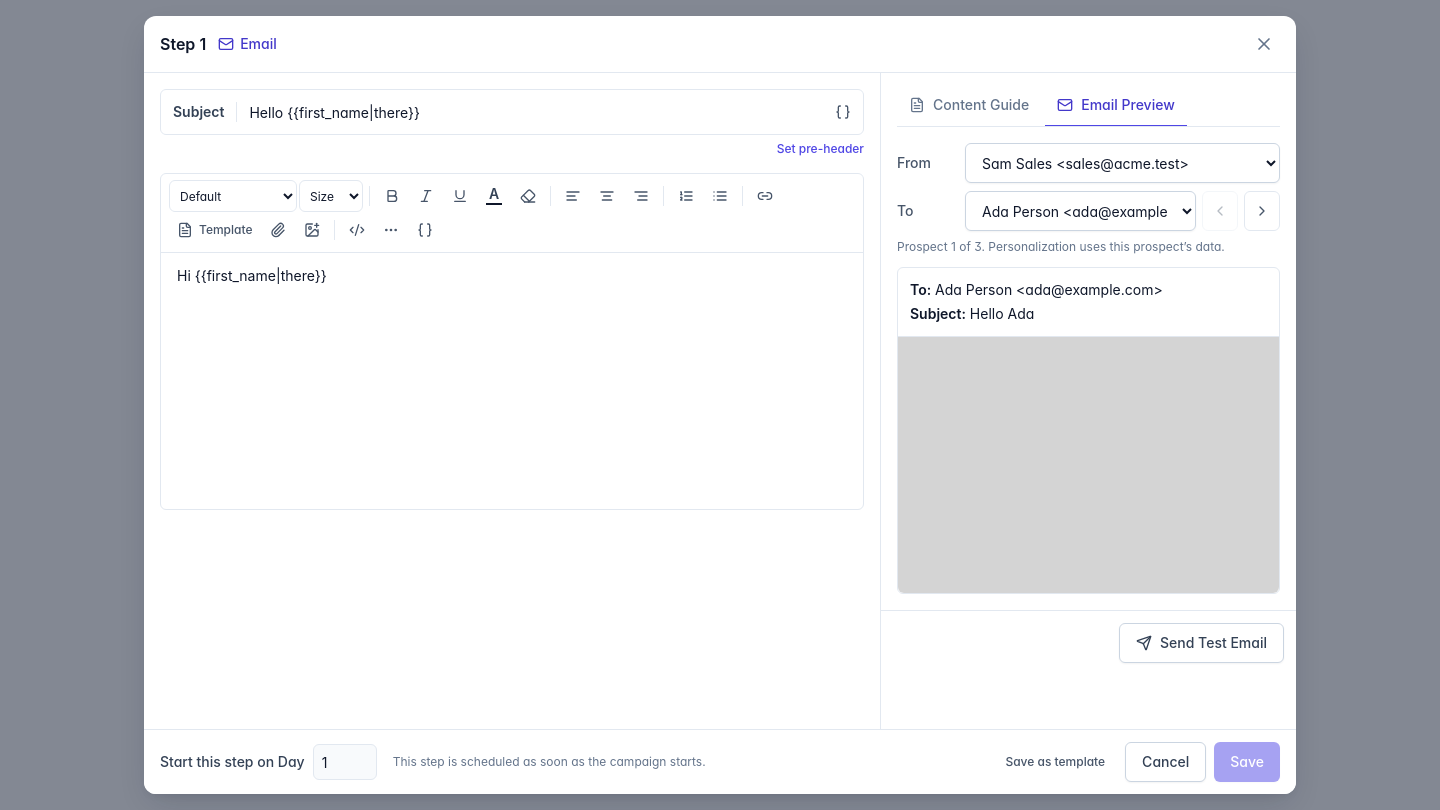
preview prospects › loads the next page of prospects as navigation nears the end
expect the text "Hello Ada" is shown: met, box [970,305,1034,322]
Click the button named "next prospect".
click(1262, 211)  # box [1244,191,1280,231]
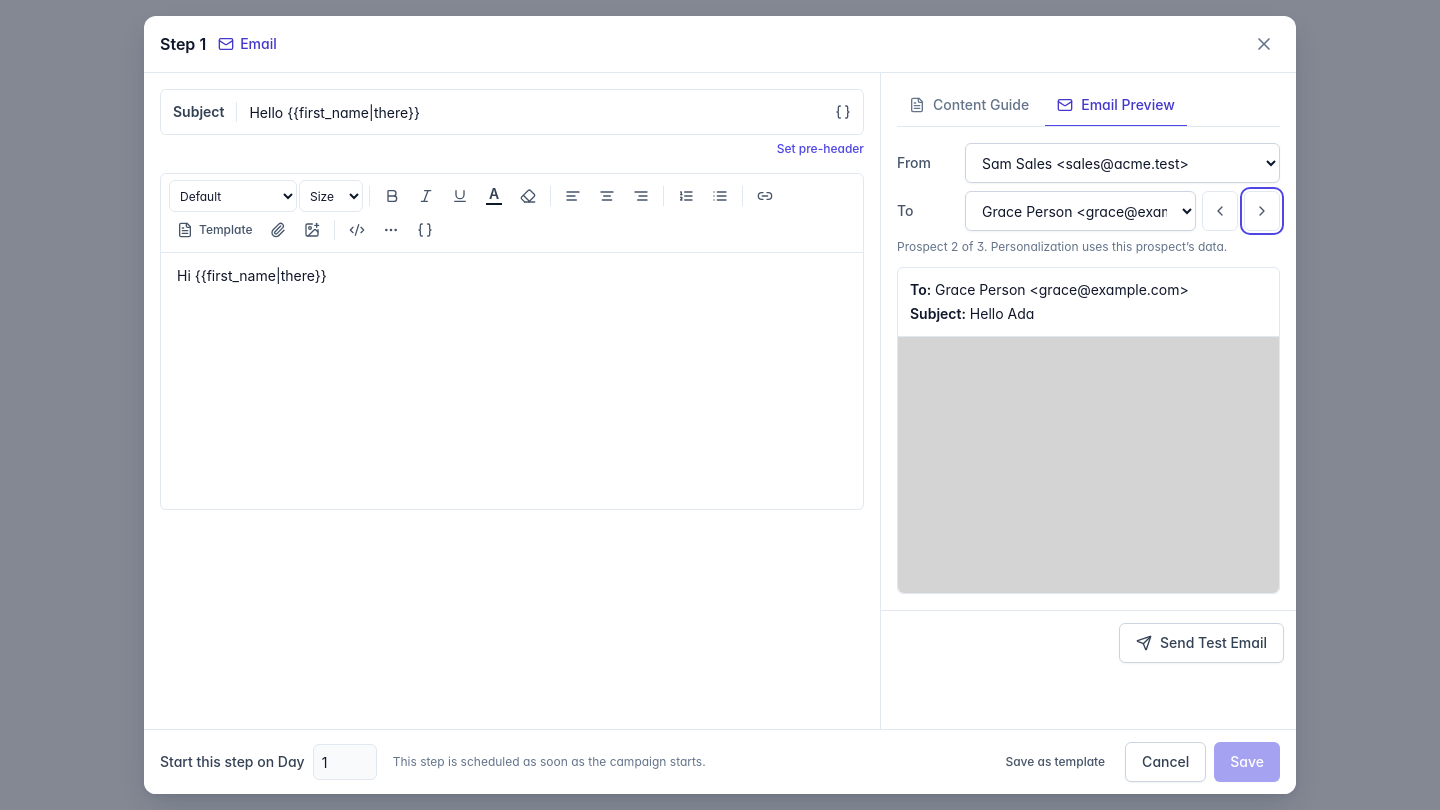
Click the button named "next prospect".
click(1262, 211)  # box [1244,191,1280,231]
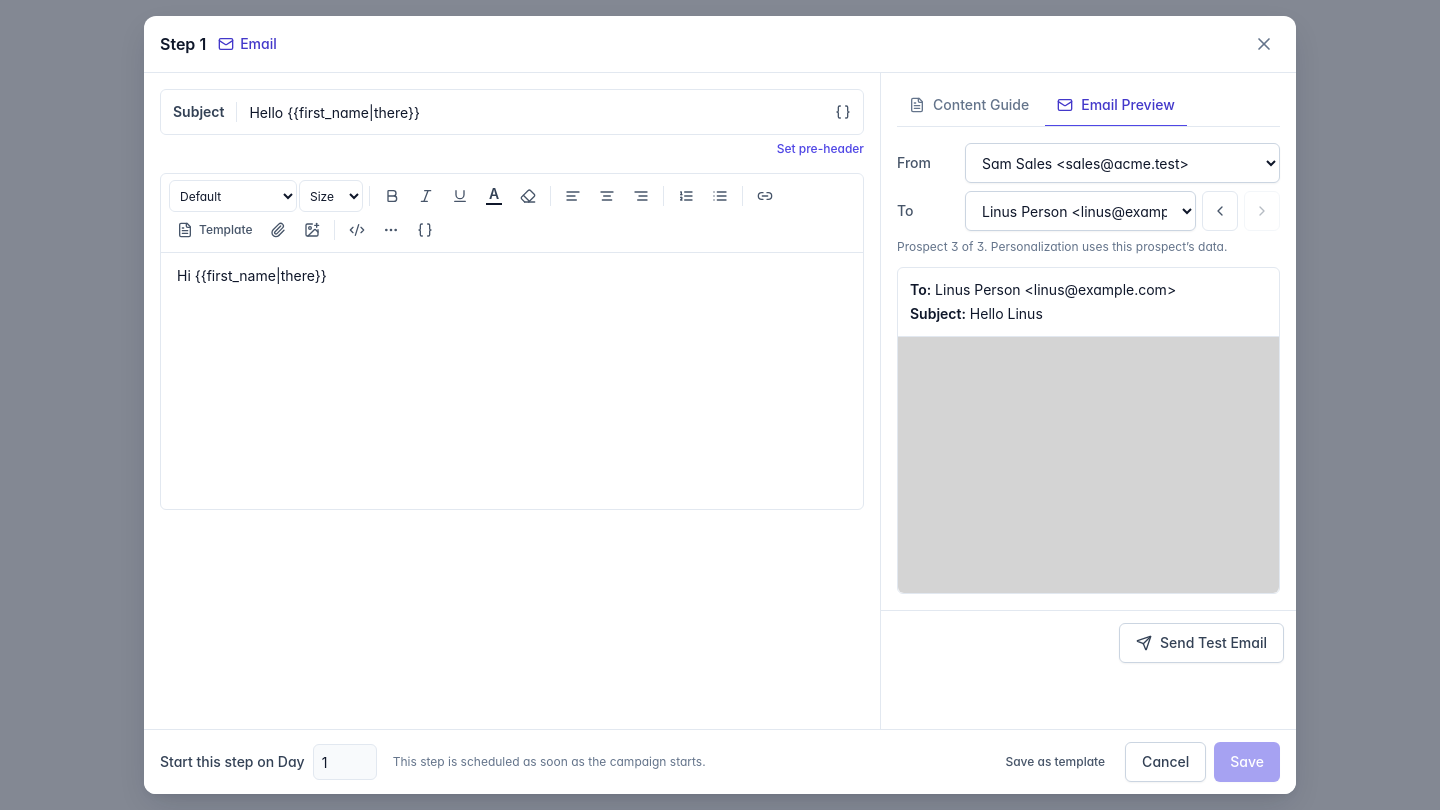
expect the text "Hello Linus" is shown: met, box [970,305,1043,322]
